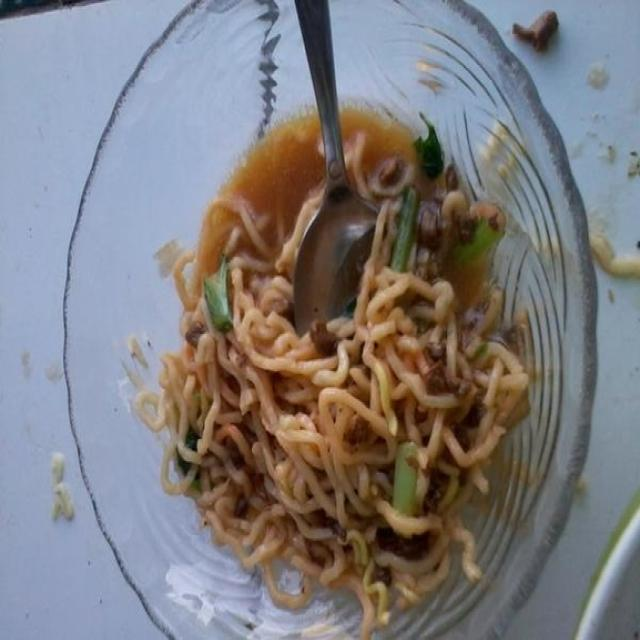面条主食: (78, 80, 569, 598)
